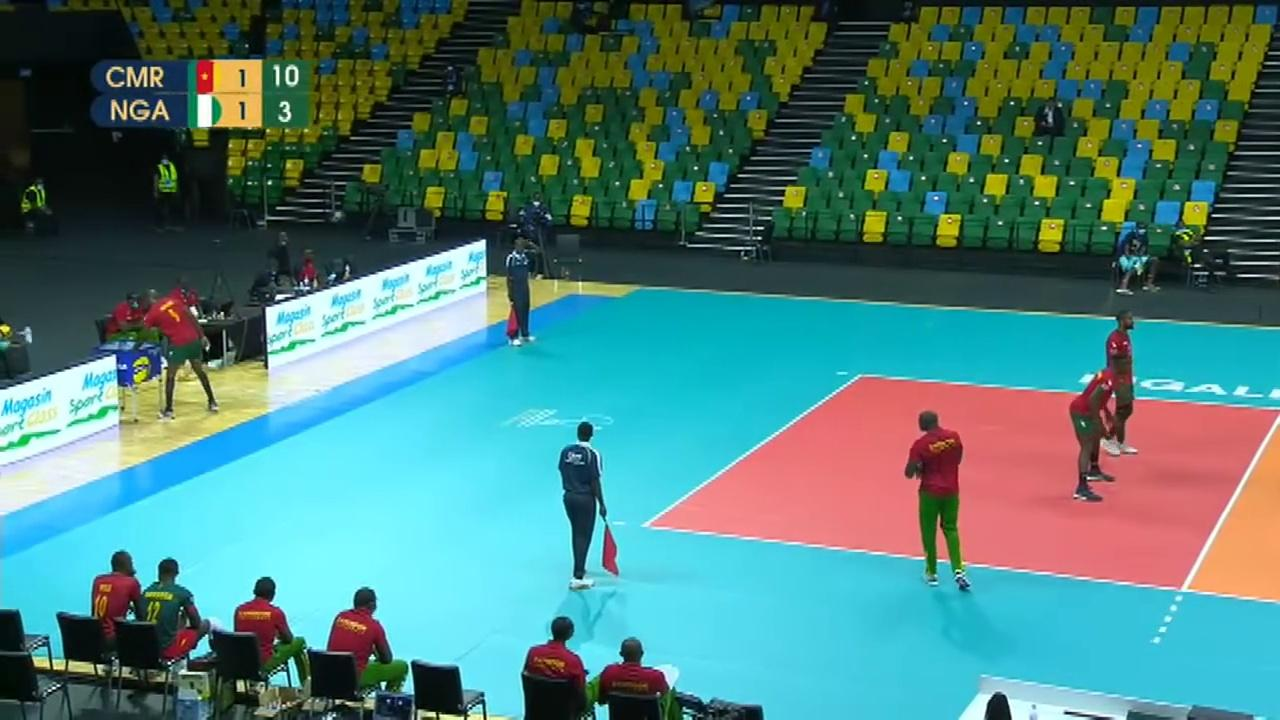player: (1064, 354, 1135, 511), (144, 288, 220, 419), (1093, 302, 1152, 463)
refree: (554, 422, 614, 584), (504, 236, 538, 349)
